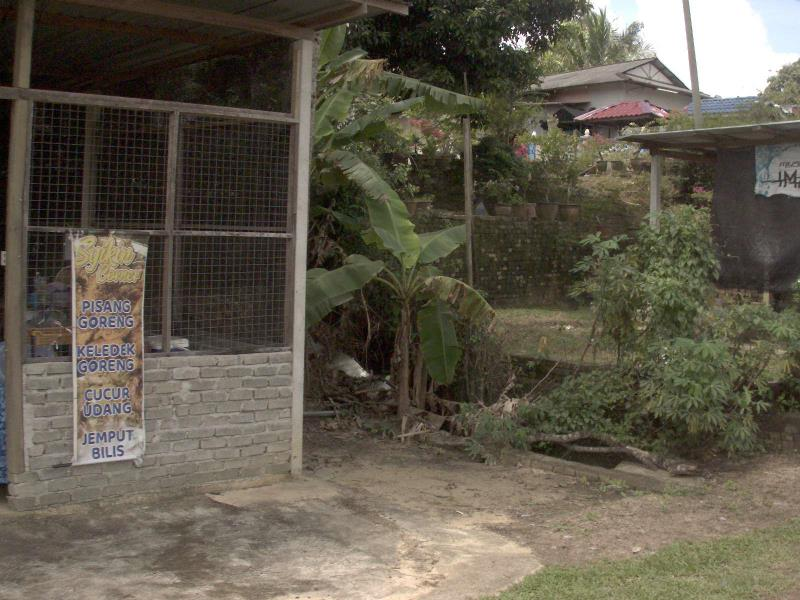ads_sign: (60, 224, 157, 473)
